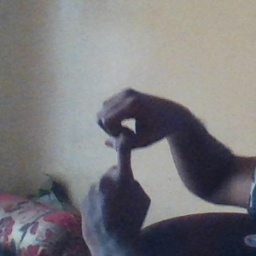Q: (78, 86, 175, 229)
